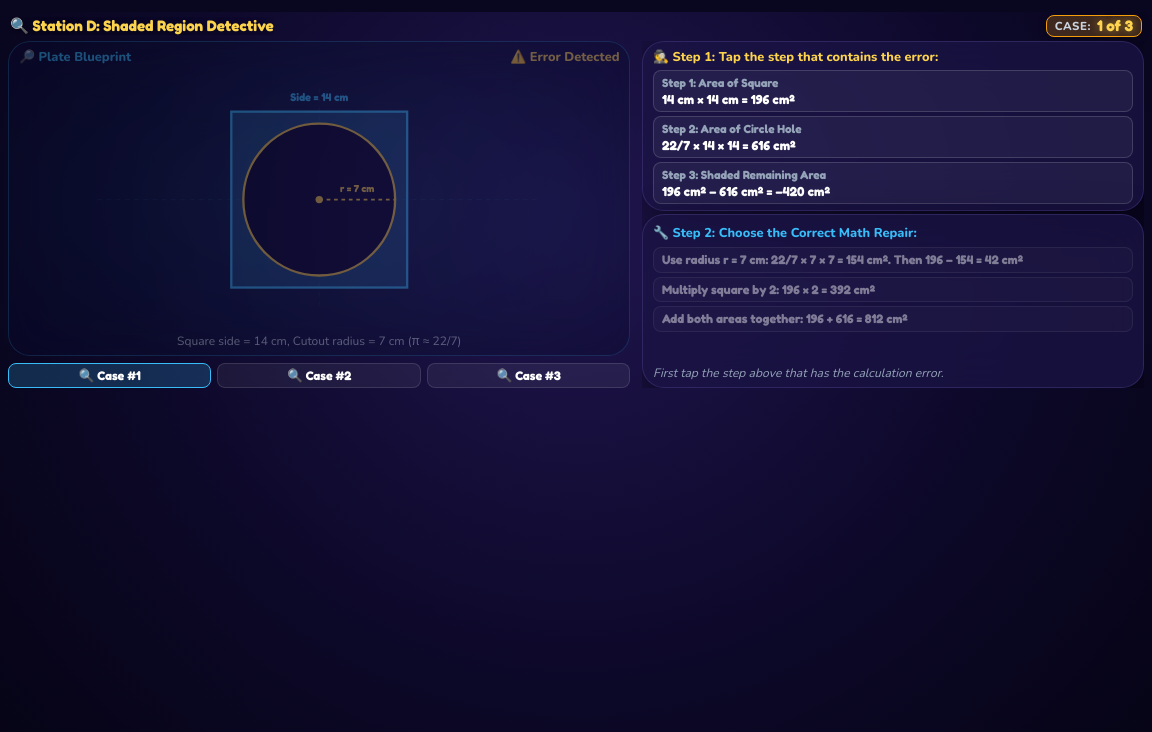
Test: ShadedRegionDetective (redesigned) › picking the wrong step keeps fix options locked (no stuck-enabled bug either direction)
Click the text "Step 1: Area of Square" at (720, 82), box [662, 75, 778, 90]
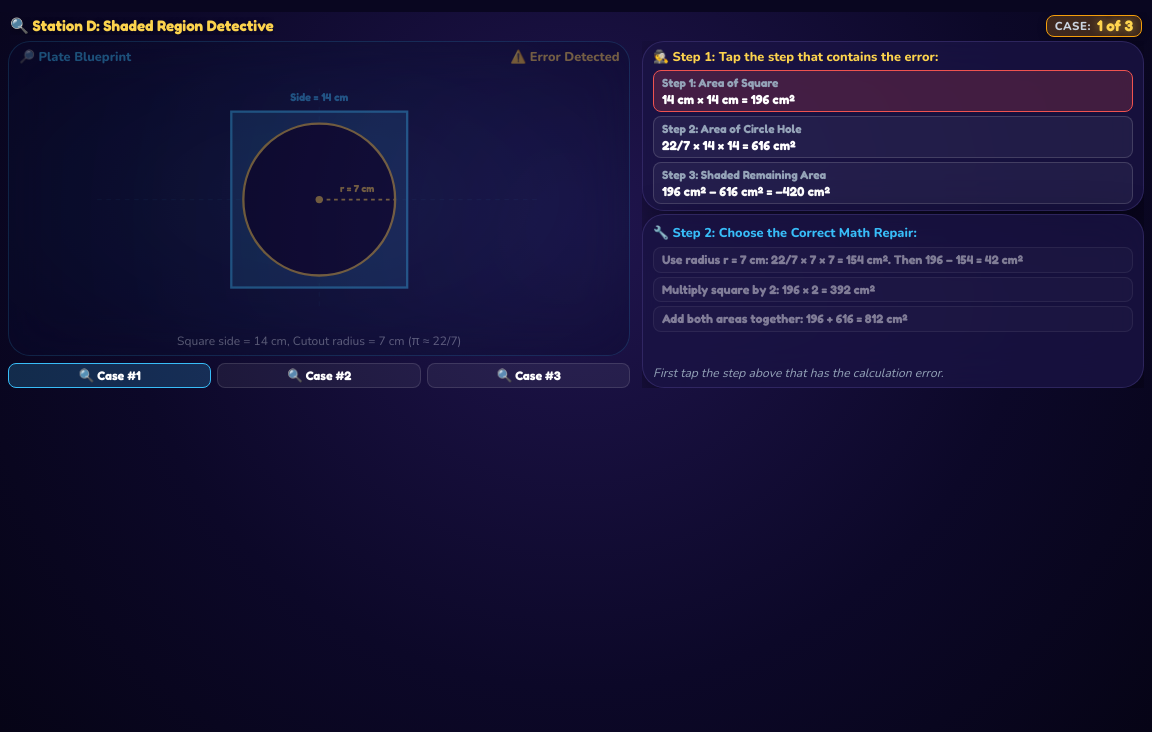
Expected: the button "Use radius r = 7 cm" is disabled, [653, 247, 1133, 273]
// now pick the actually flawed step
Click the text "Step 2: Area of Circle Hole" at (732, 128), box [662, 121, 802, 136]
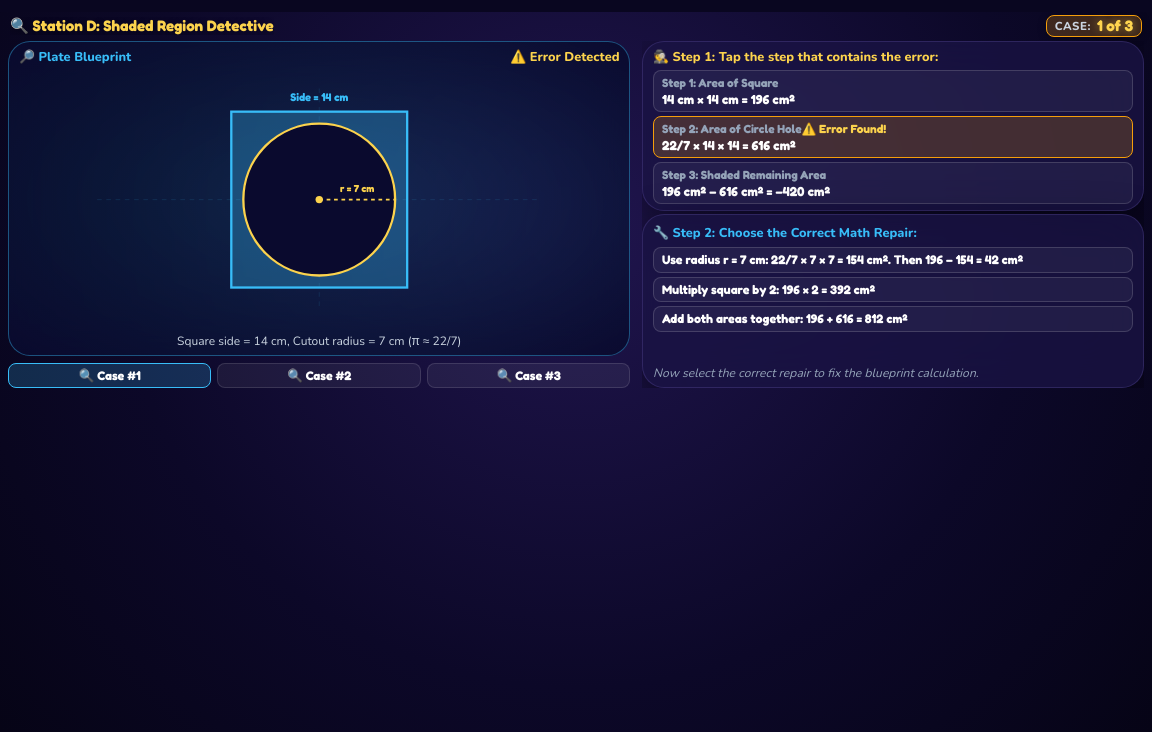
Expected: the button "Use radius r = 7 cm" is enabled, [653, 247, 1133, 273]
